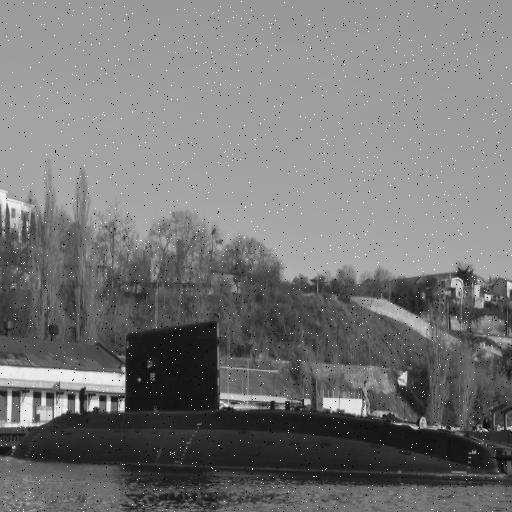submarine: (11, 320, 512, 457)
